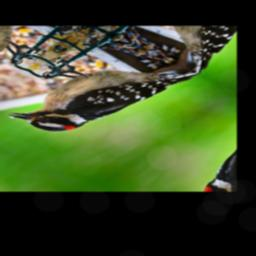Woodpecker: (0, 29, 199, 152)
